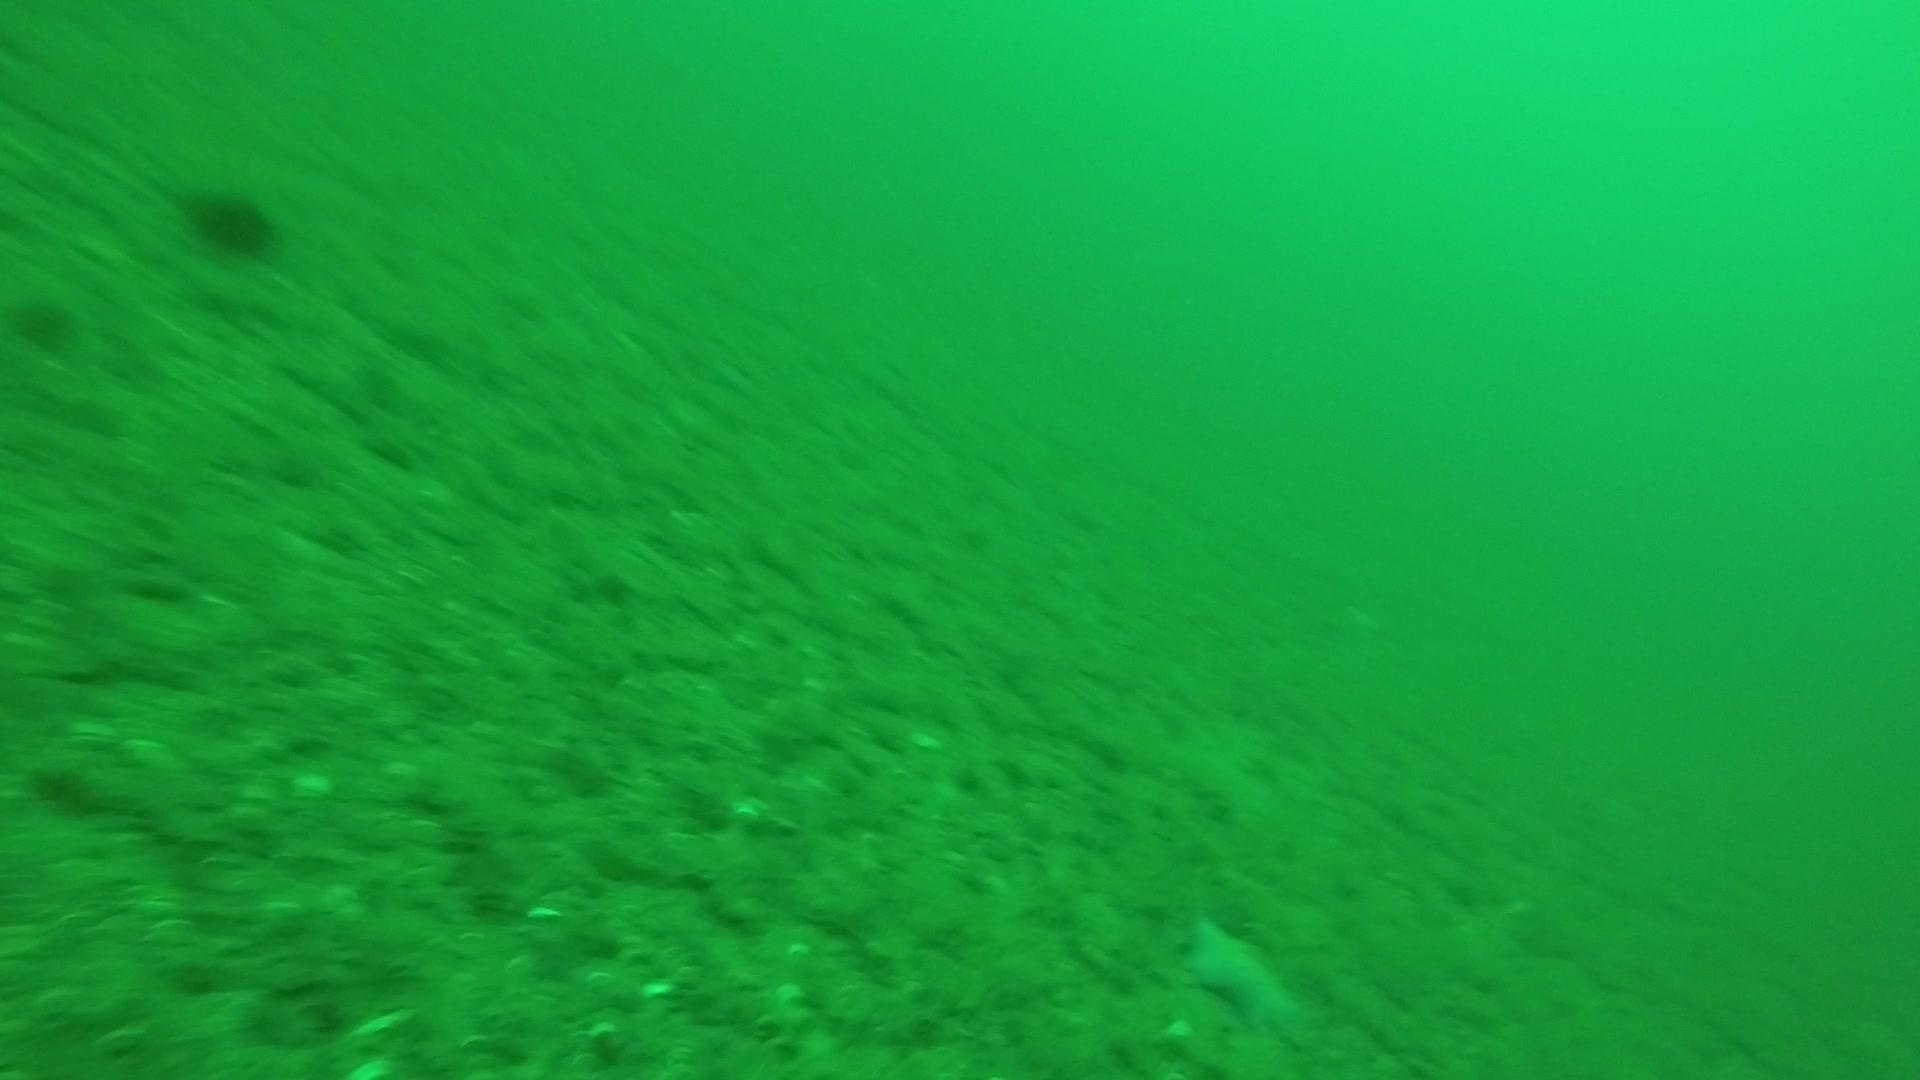echinus: (182, 179, 282, 261), (7, 287, 79, 356)
starfish: (1174, 909, 1309, 1038)
